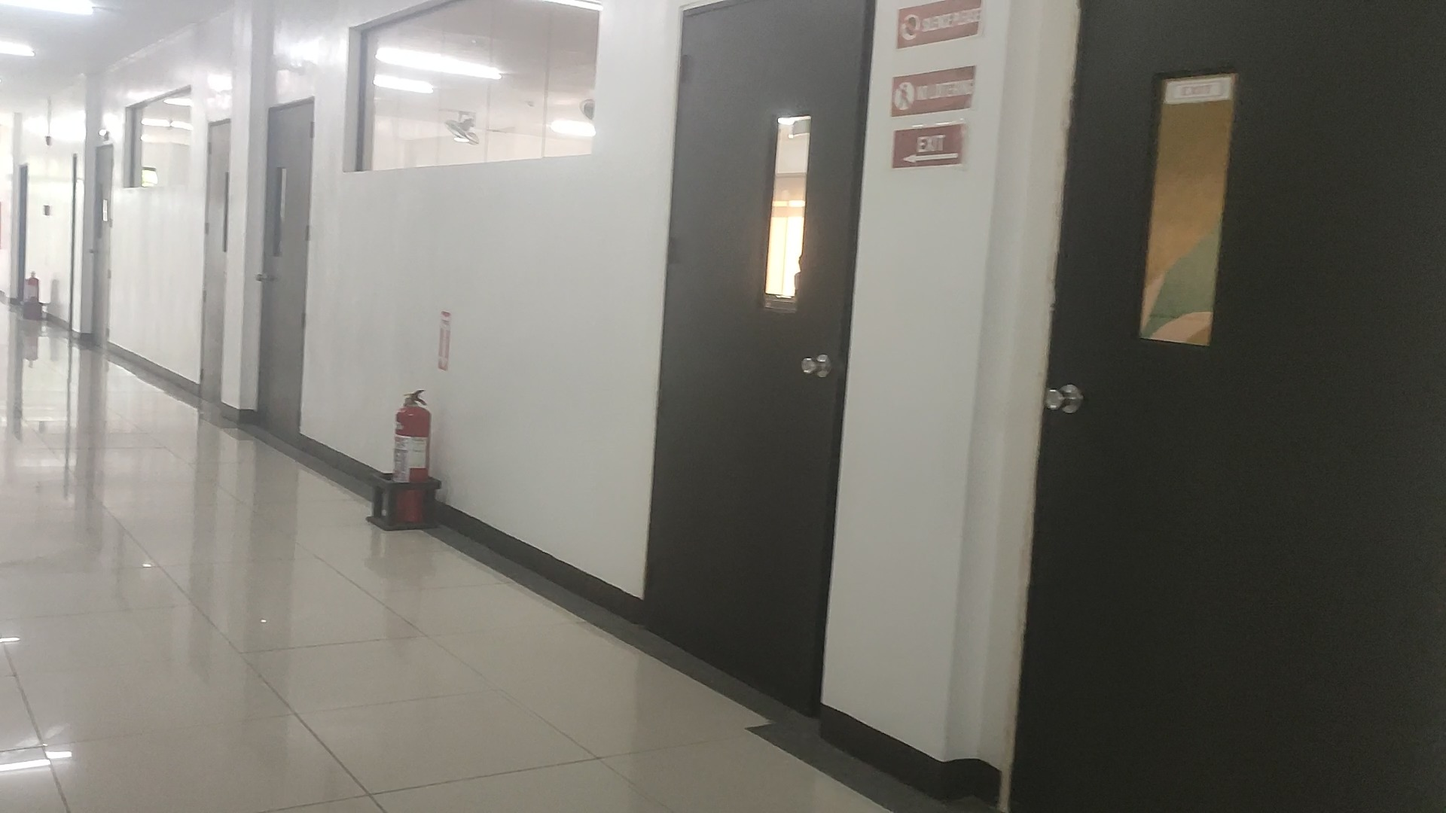door: (1000, 0, 1446, 813), (639, 0, 872, 716)
